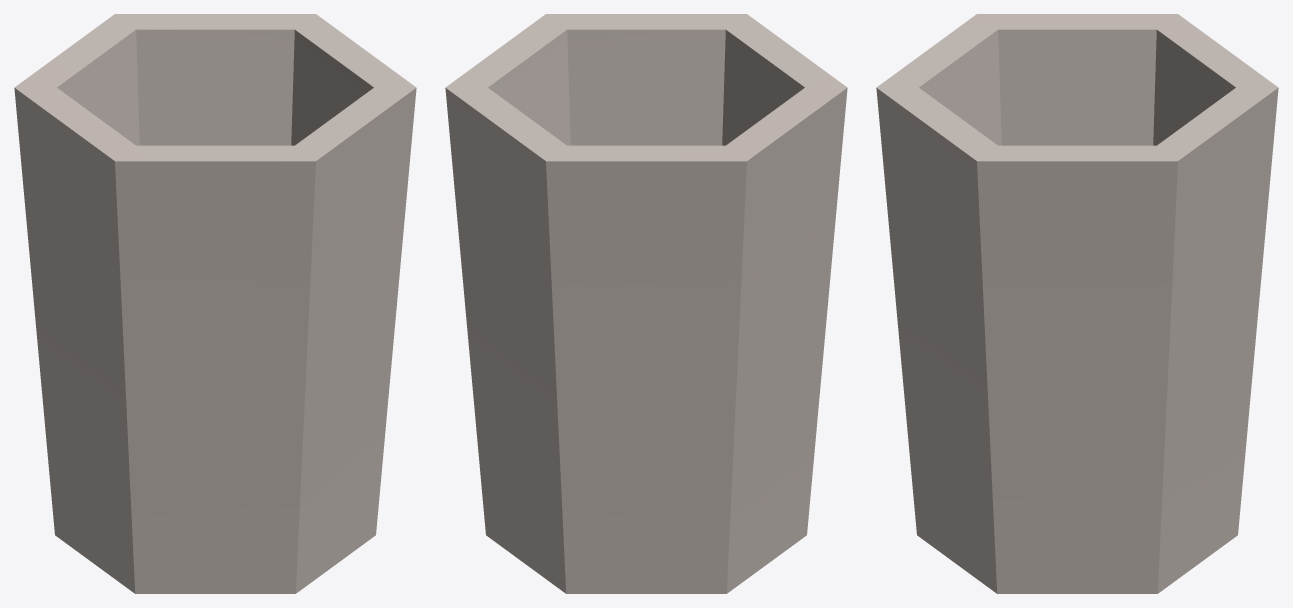
Rendered from glass.fbx.
3 renders of one model, left to right at view 1: azimuth 30°, elevation 25°; view 2: azimuth 150°, elevation 25°; view 3: azimuth 270°, elevation 25°, orthographic.
Parts seen in each view (by area): view 1: Cylinder; view 2: Cylinder; view 3: Cylinder.
Boxes of the visible parts, x1,y1,x2,y2 form: Cylinder: (14,14,416,593); Cylinder: (445,14,847,593); Cylinder: (876,14,1278,593).
Bounding box in the file's own units: 173 × 246 × 200.
1 material, 1 textured.
